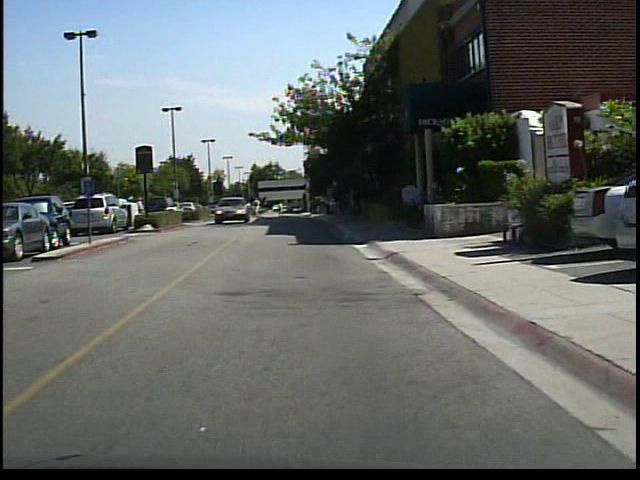person: (331, 181, 349, 219), (157, 191, 175, 227), (136, 195, 150, 227), (252, 195, 264, 220)
